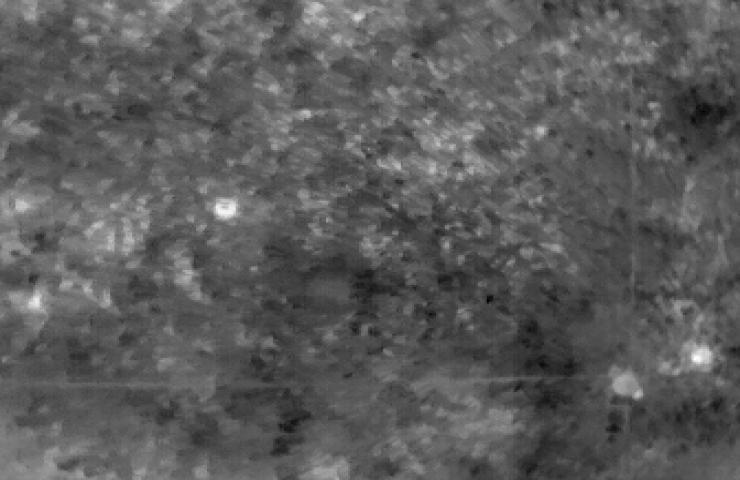landmines: (212, 194, 242, 222)
